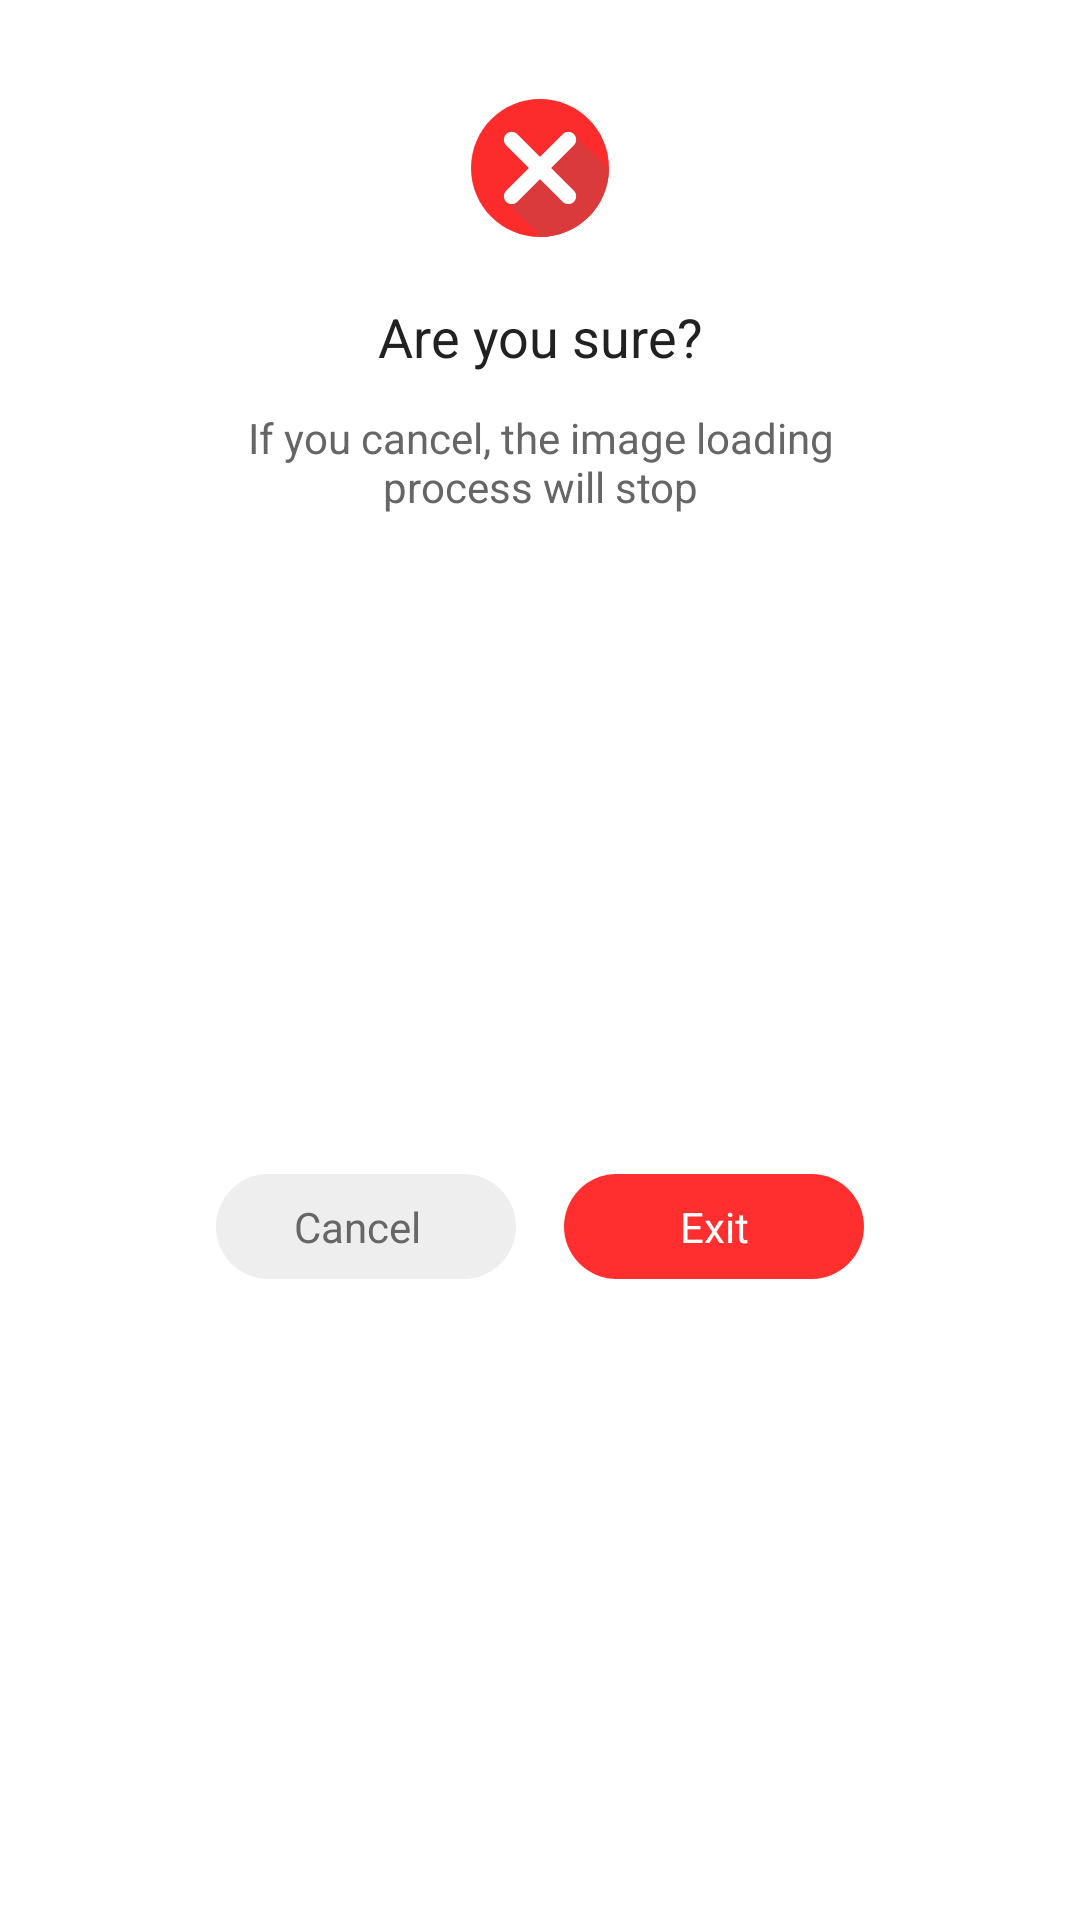

Screen size 1080*1920. Icon name, then its center in pixels as point (x, y):
stop dialog: point (540, 168)
